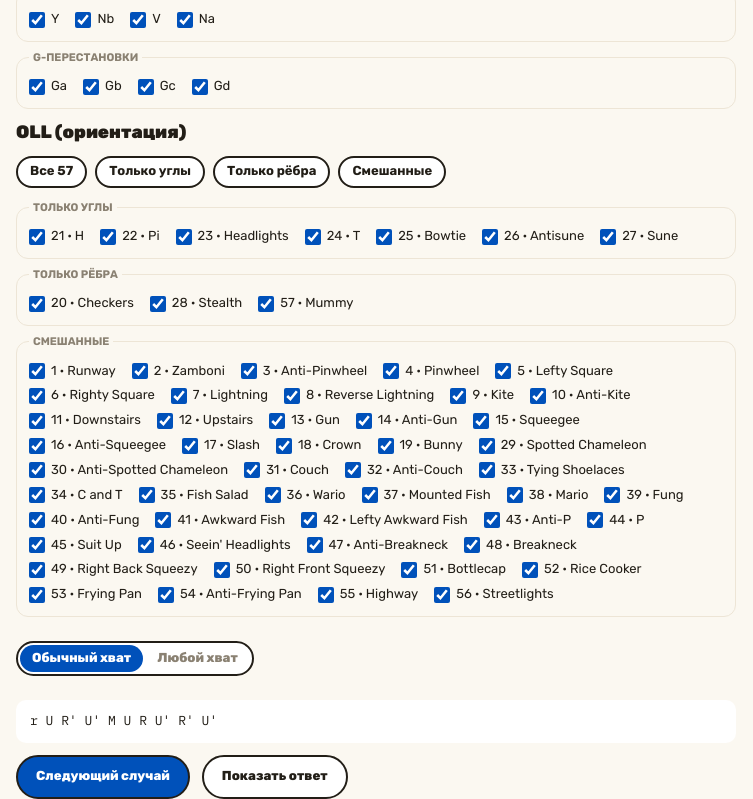
TrainerPage › "Показать ответ" reveals name/algorithm/diagram, absent before the click
(page scrolled)
Click the button "Показать ответ" at (275, 777), box [202, 755, 348, 798]
(page scrolled)
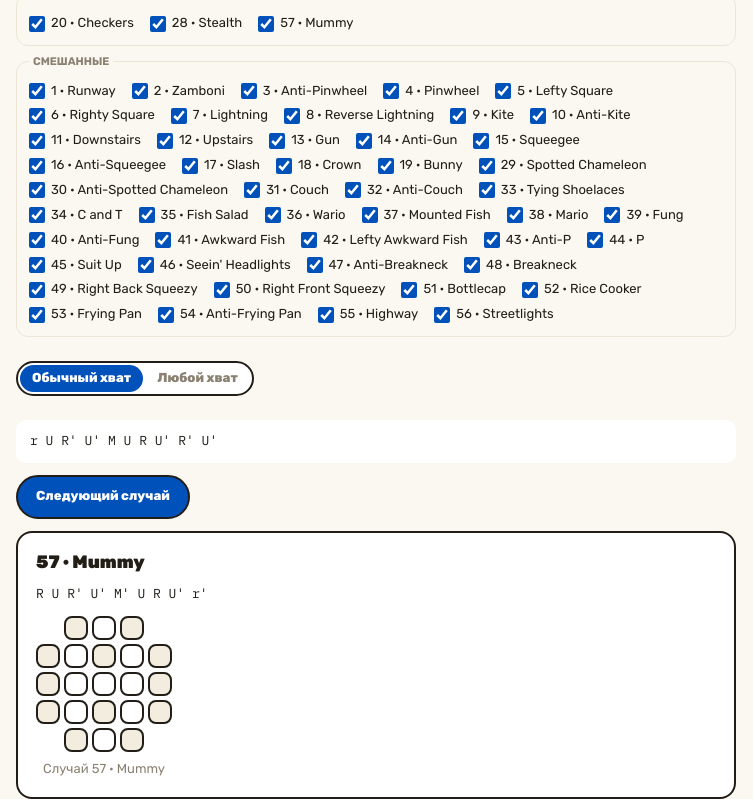
Result: the button "Показать ответ" is gone
Result: the 1st element with test id "ll-sticker" is shown at [64, 616, 88, 640]
